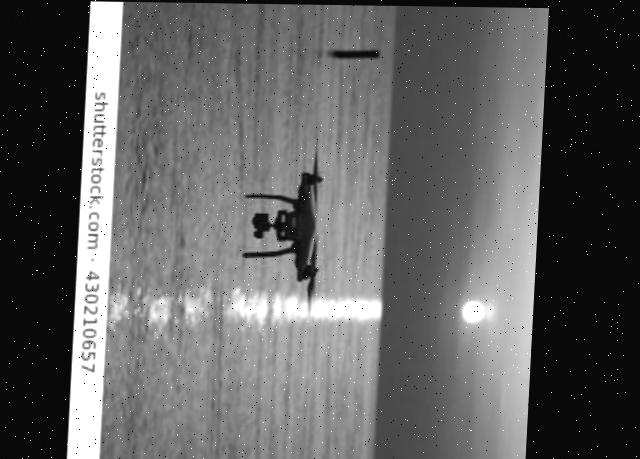drone: (71, 1, 324, 459)
